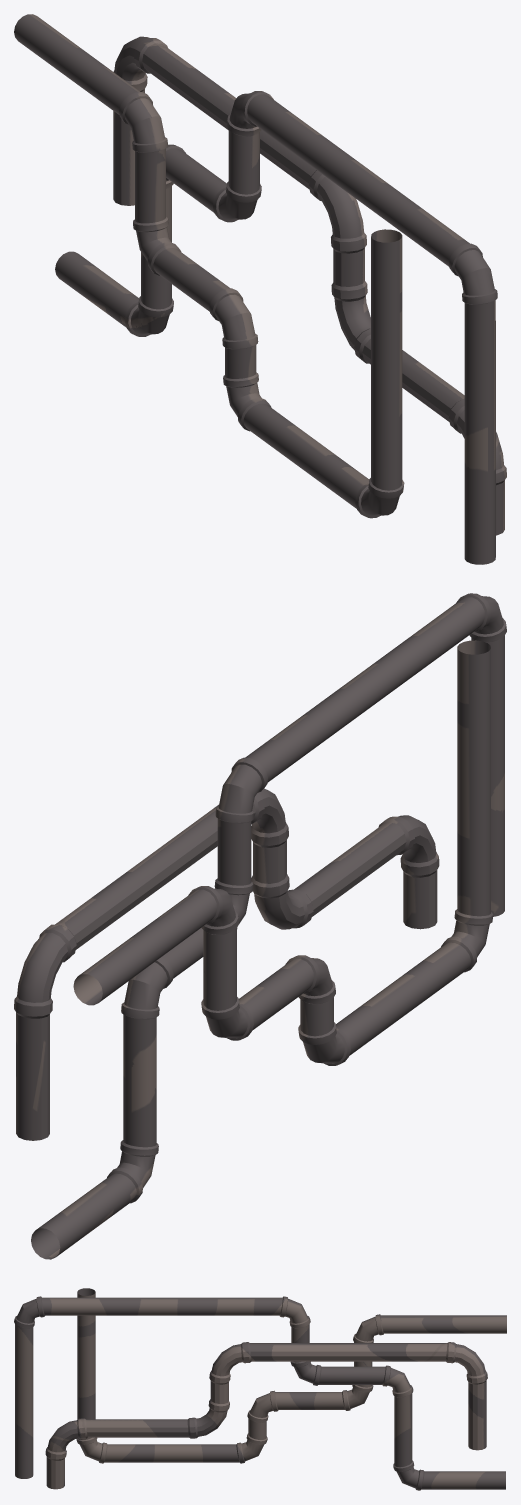
File: tubos.fbx
3 views of the same model, one above another, from view 1: azimuth 30°, elevation 25°; view 2: azimuth 150°, elevation 25°; view 3: azimuth 270°, elevation 25° (orthographic). The views are drawn at different scales.
Parts seen in each view (by area): view 1: Cube.124, Cube.133, Cube.132; view 2: Cube.133, Cube.124, Cube.132; view 3: Cube.124, Cube.132, Cube.133.
Boxes of the visible parts, x1,y1,x2,y2 form: Cube.124: (55, 91, 497, 564); Cube.133: (14, 14, 404, 518); Cube.132: (113, 36, 506, 535); Cube.133: (73, 640, 492, 1065); Cube.124: (31, 593, 506, 1259); Cube.132: (14, 788, 439, 1140); Cube.124: (14, 1296, 505, 1490); Cube.132: (45, 1342, 487, 1489); Cube.133: (76, 1288, 506, 1463).
Size of the model in its own units: 672 by 1966 by 4566.
